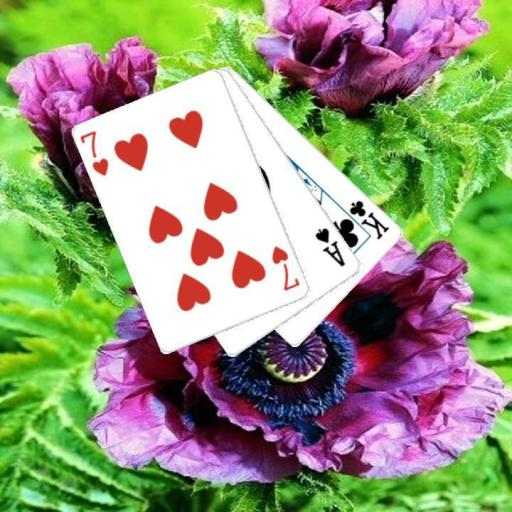card-corner: (337, 197, 391, 242), (77, 127, 111, 178), (269, 242, 302, 293), (312, 224, 347, 268)
